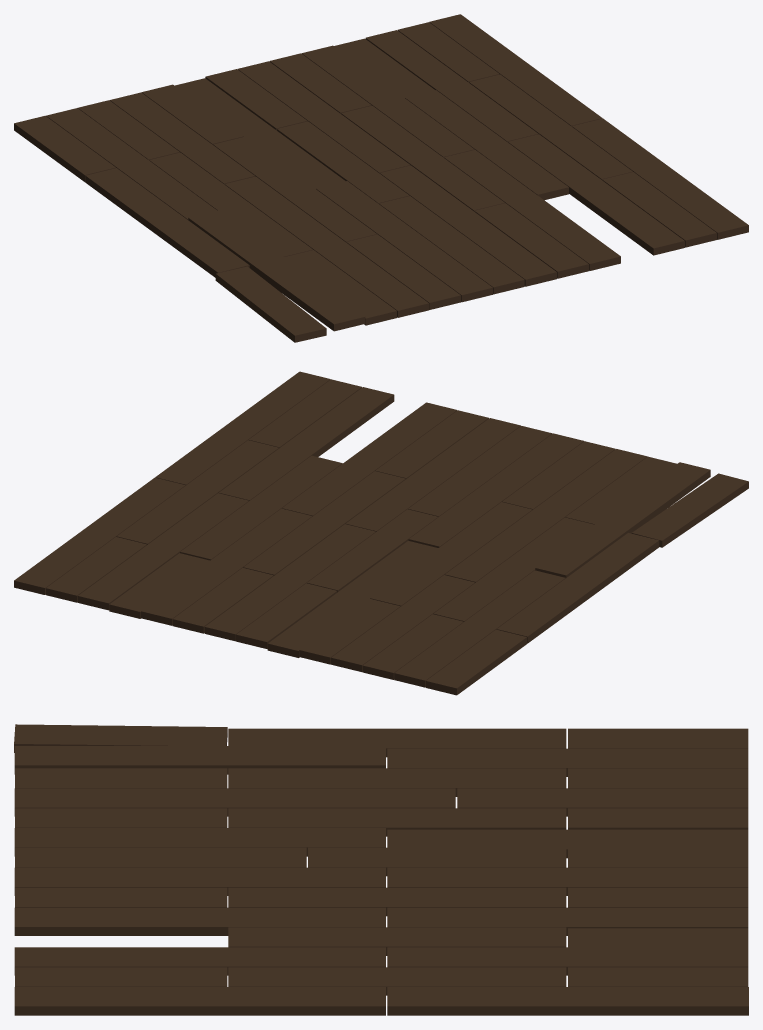
File: suelo3.fbx
The picture shows the model from 3 angles, top to bottom: view 1: azimuth 30°, elevation 25°; view 2: azimuth 150°, elevation 25°; view 3: azimuth 270°, elevation 25°; orthographic projection. The views are drawn at different scales.
Parts seen in each view (by area): view 1: Suelo.002; view 2: Suelo.002; view 3: Suelo.002.
Boxes of the visible parts, x1,y1,x2,y2 form: Suelo.002: (14, 14, 748, 342); Suelo.002: (14, 371, 748, 695); Suelo.002: (14, 724, 748, 1015).
Bounding box in the file's own units: 326 × 7.22 × 359.
